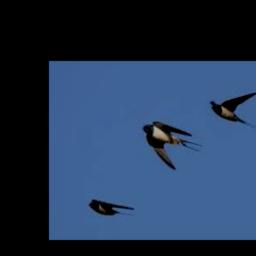Swallow: (142, 121, 204, 169), (211, 92, 256, 129), (89, 199, 135, 216)
